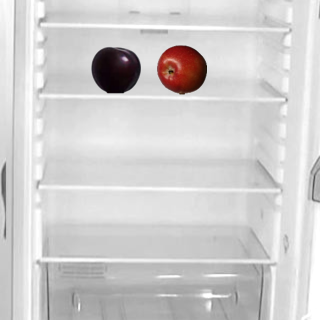Apple Braeburn: (156, 44, 206, 94)
Cherry Wax Black: (90, 44, 140, 94)
